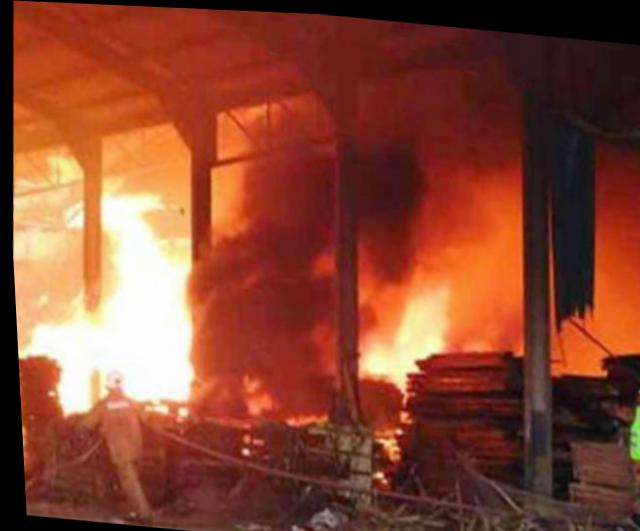fire: (93, 295, 193, 389), (112, 246, 180, 298), (391, 291, 443, 359), (59, 317, 88, 401), (106, 210, 148, 246), (99, 193, 151, 213), (361, 343, 393, 374), (38, 326, 59, 353)
smoke: (359, 66, 524, 288), (231, 117, 319, 366), (585, 138, 639, 340), (185, 266, 243, 405), (106, 127, 186, 197), (203, 151, 244, 234), (303, 136, 335, 238), (452, 289, 519, 335), (15, 263, 69, 308), (278, 379, 328, 408), (308, 276, 339, 316)
